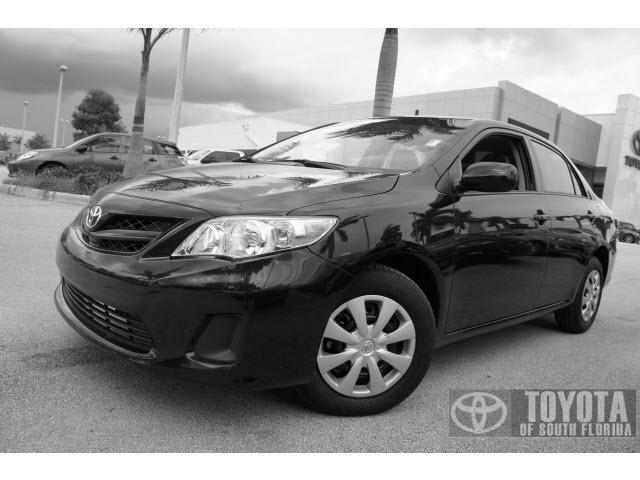car: (38, 108, 631, 426)
